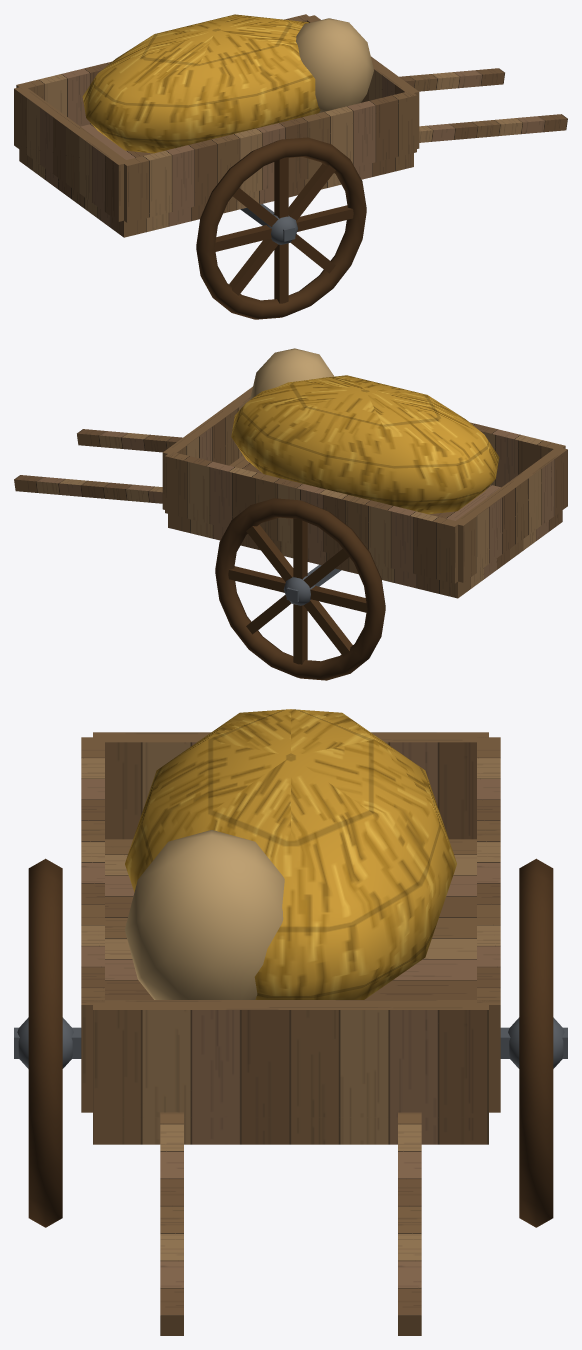
The model's file is cart.glb.
3 views of the same model, one above another, from view 1: azimuth 30°, elevation 25°; view 2: azimuth 150°, elevation 25°; view 3: azimuth 270°, elevation 25° (orthographic). The views are drawn at different scales.
Parts seen in each view (by area): view 1: cart; view 2: cart; view 3: cart.
Boxes of the visible parts, x1,y1,x2,y2 form: cart: (14, 14, 567, 319); cart: (14, 348, 567, 680); cart: (14, 709, 567, 1335).
Size of the model in its own units: 2.58 by 1.28 by 1.4.
Materials: 5 (2 with a texture image).
